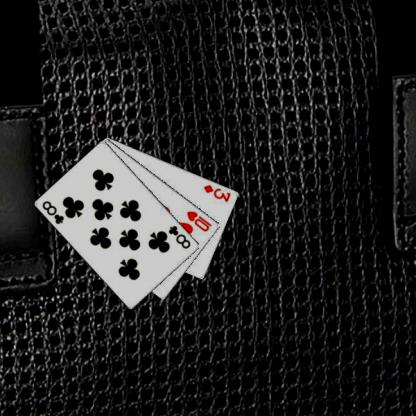10H: (184, 209, 213, 233)
3D: (201, 182, 232, 204)
8C: (166, 223, 192, 250), (40, 198, 65, 226)
